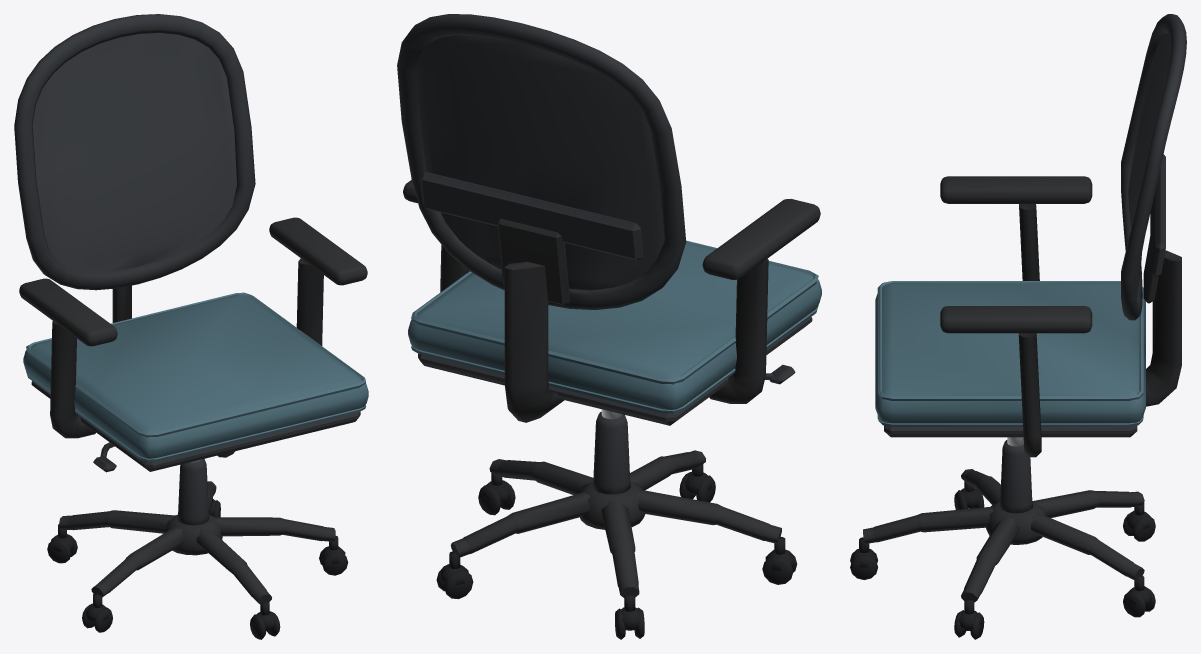
Rendered from chairTask.glb.
3 views of the same model, side by side, from view 1: azimuth 30°, elevation 25°; view 2: azimuth 150°, elevation 25°; view 3: azimuth 270°, elevation 25° (orthographic). The views are drawn at different scales.
Visible parts, largest first — view 1: seat, base; view 2: seat, base; view 3: seat, base.
Part boxes in pixels (bbox=[...]): seat: bbox=[14, 14, 368, 472]; base: bbox=[47, 459, 348, 639]; seat: bbox=[397, 14, 821, 425]; base: bbox=[436, 409, 797, 639]; seat: bbox=[875, 14, 1186, 457]; base: bbox=[850, 437, 1155, 639].
Size of the model in its own units: 0.614 by 1.06 by 0.5979.
